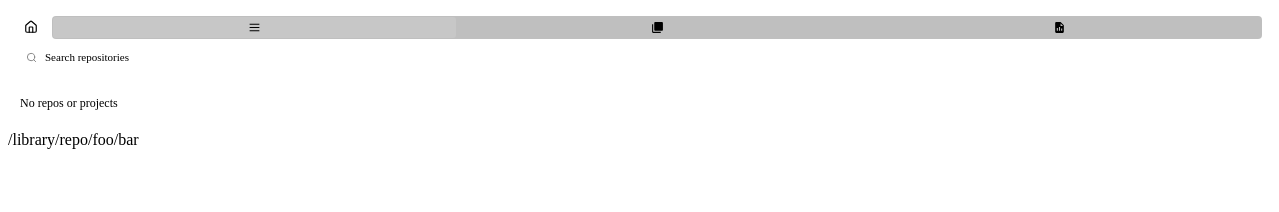
Scenario: LibrarySidebar — collections mode rendering › changes search placeholder when in collections mode
This screenshot has width=1279, height=212.
What coordinates should you click on to do the following:
click the button named "Collections"
I would click on:
 (657, 27)
Its box is [456,16,858,38].
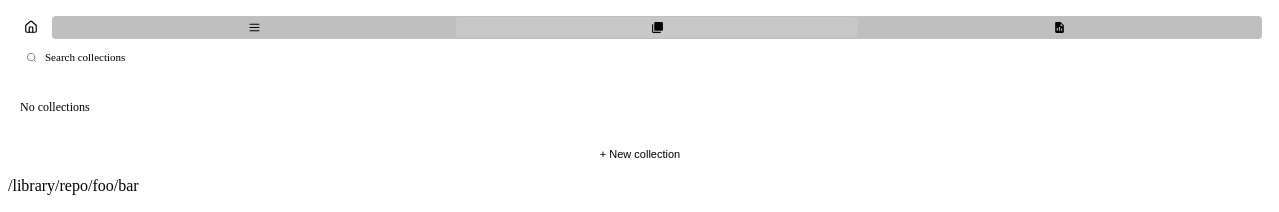
expect the field with placeholder "Search collections" is shown: met, box [43,50,1254,64]
